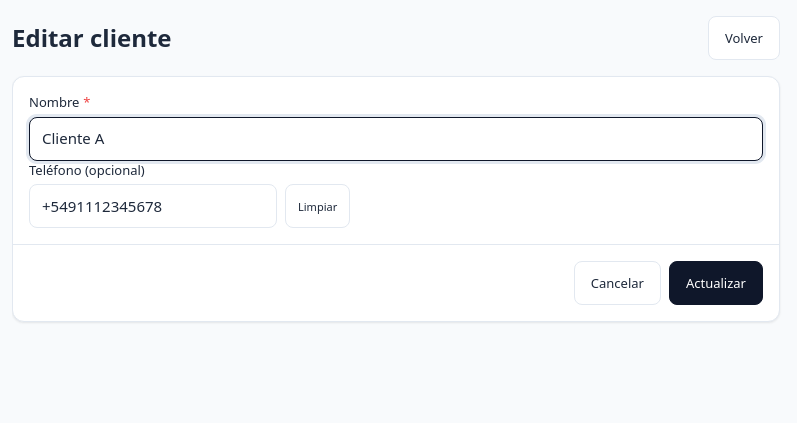
Test: CustomerForm › Edit Mode › shows validation error when name is empty
Step 1. Clear the field labelled "Nombre *" → (396, 138), box left=29, top=116, right=763, bottom=160
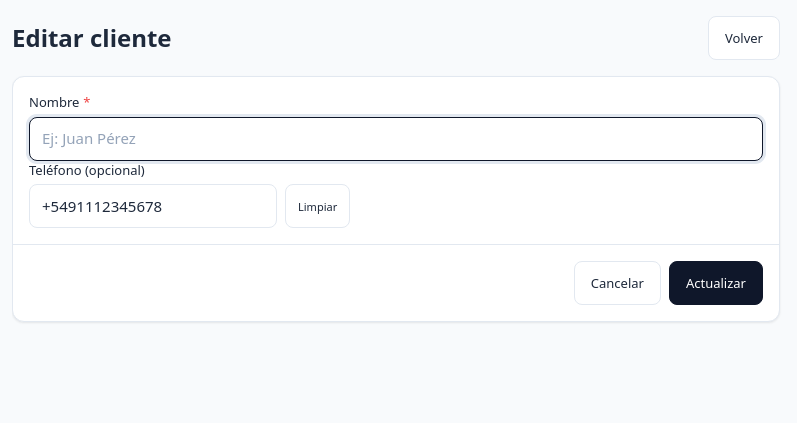
Step 2. Click the button "Actualizar" → click(716, 283), box left=669, top=261, right=763, bottom=305
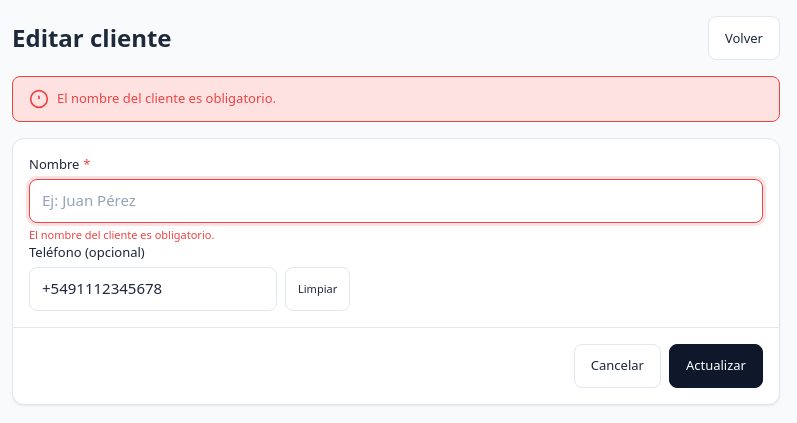
expect the text "El nombre del cliente es obligatorio." is shown: met, box left=57, top=89, right=276, bottom=108
